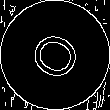O_SE: (22, 24, 88, 86)
